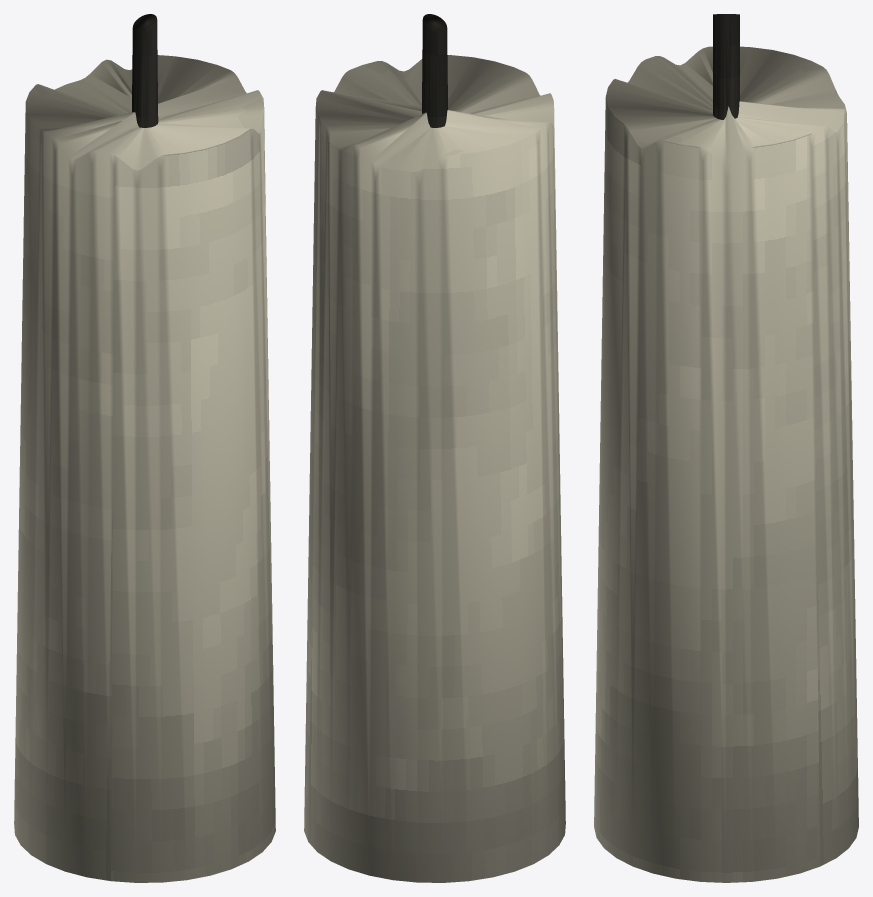
The model's file is Candle.obj.
3 renders of one model, left to right at view 1: azimuth 30°, elevation 25°; view 2: azimuth 150°, elevation 25°; view 3: azimuth 270°, elevation 25°, orthographic.
Parts seen in each view (by area): view 1: Candle; view 2: Candle; view 3: Candle.
Part boxes in pixels (x1=…): Candle: x1=14, y1=14, x2=275, y2=882; Candle: x1=304, y1=14, x2=565, y2=882; Candle: x1=594, y1=14, x2=858, y2=882.
Bounding box in the file's own units: 0.3525 × 1.2 × 0.3525.
